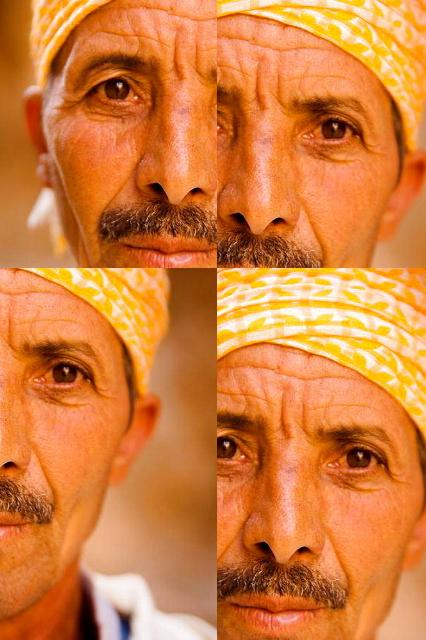crows_feet: (383, 459, 407, 488), (90, 273, 112, 303)
forehead: (235, 351, 283, 383), (298, 364, 350, 392), (178, 11, 217, 48), (217, 379, 252, 410)
frown_line: (273, 402, 295, 442), (294, 401, 314, 437), (166, 268, 200, 278), (219, 0, 233, 16)
gummy_smile: (330, 542, 358, 592), (217, 528, 242, 573), (119, 328, 138, 368)
masseter: (104, 378, 130, 414), (162, 150, 180, 184), (254, 51, 280, 73)
